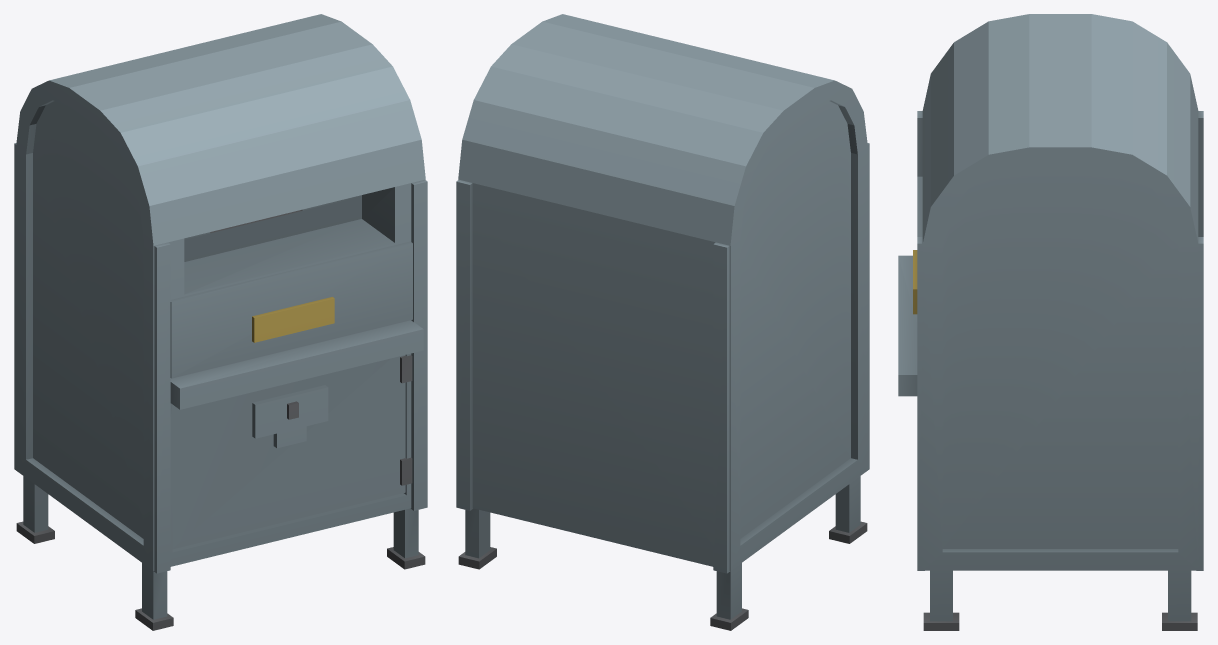
The model's file is mailbox.glb.
3 views of the same model, side by side, from view 1: azimuth 30°, elevation 25°; view 2: azimuth 150°, elevation 25°; view 3: azimuth 270°, elevation 25° (orthographic).
Parts seen in each view (by area): view 1: mailbox; view 2: mailbox; view 3: mailbox.
Part boxes in pixels (<box>): mailbox: <box>14,14,427,630</box>; mailbox: <box>456,14,869,630</box>; mailbox: <box>898,14,1203,630</box>.
Size of the model in its own units: 0.71 by 1.2 by 0.687.
